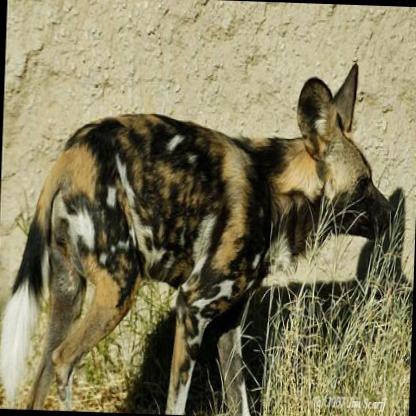African_hunting_dog: (0, 48, 400, 416)
